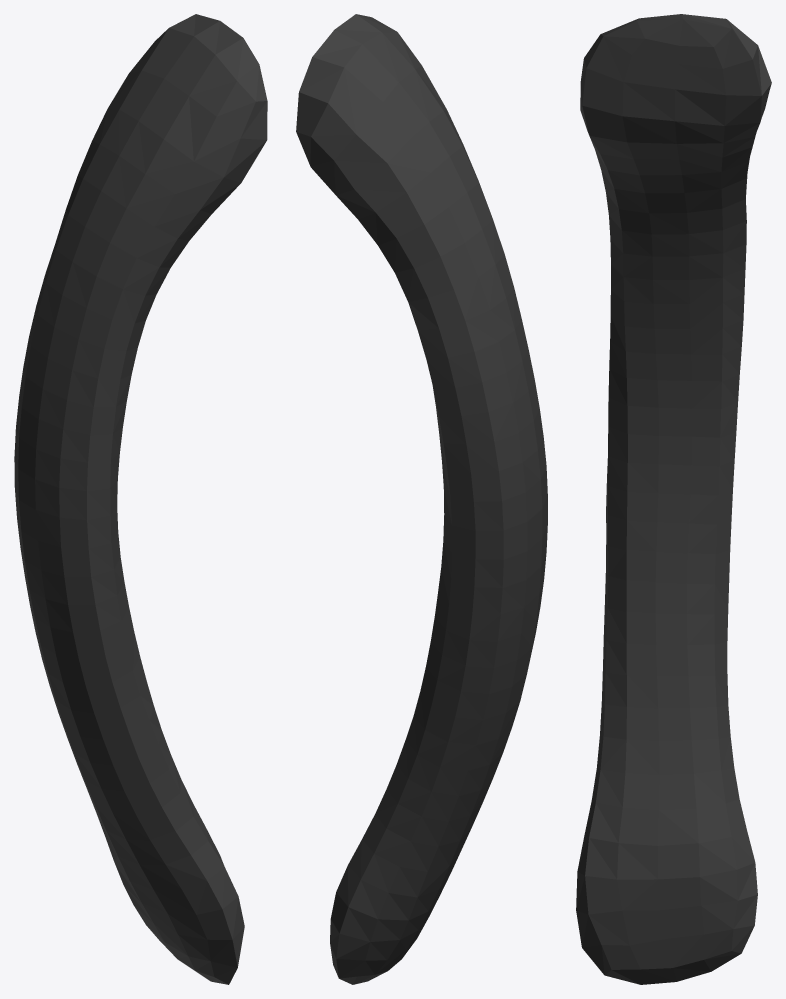
The model's file is Coll_med_lig.glb.
3 renders of one model, left to right at view 1: azimuth 30°, elevation 25°; view 2: azimuth 150°, elevation 25°; view 3: azimuth 270°, elevation 25°, orthographic. The views are drawn at different scales.
Parts seen in each view (by area): view 1: Coll_med_lig; view 2: Coll_med_lig; view 3: Coll_med_lig.
Part boxes in pixels (box(x1,y1,x2,y2)): Coll_med_lig: box(14, 14, 267, 984); Coll_med_lig: box(296, 14, 547, 984); Coll_med_lig: box(576, 14, 771, 984).
Size of the model in its own units: 20.77 by 93.04 by 16.84.
1 material, 1 textured.
